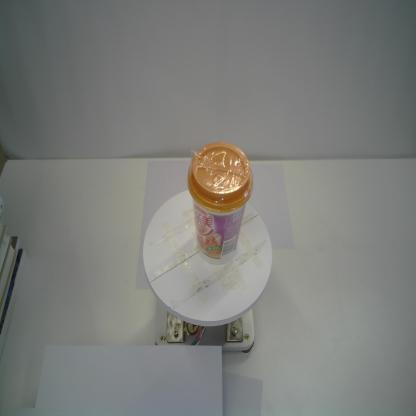Instant Drink: (186, 141, 253, 266)
